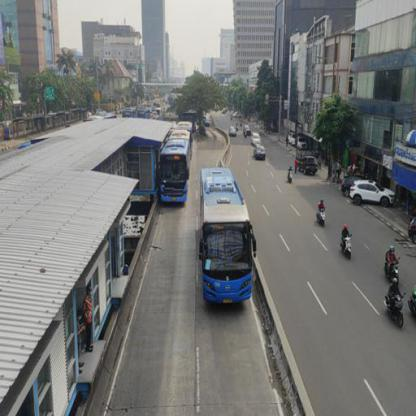bus: (197, 168, 256, 310), (158, 137, 192, 205)
motorbike: (382, 290, 407, 328), (384, 257, 405, 284), (338, 232, 352, 262), (315, 207, 329, 228), (285, 169, 296, 187)
